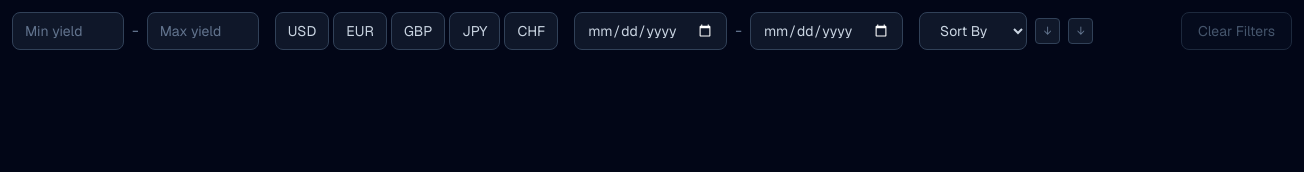
Scenario: InvoiceFilters validation › Filter controls accessibility › clears error when value is corrected
The image size is (1304, 172).
Type "-5" into the number field named "minimum yield". click: point(68, 31)
box: [12, 12, 124, 50]
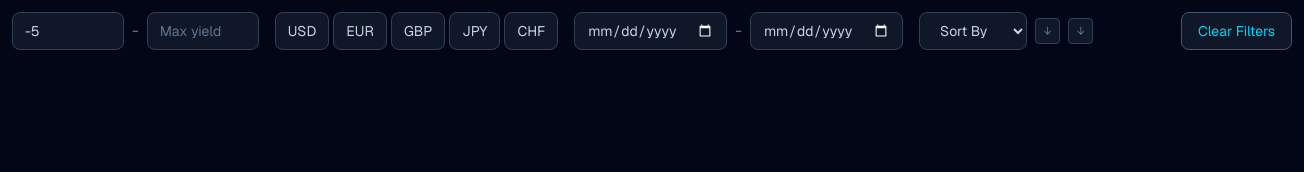
Leave the number field named "minimum yield", box [12, 12, 124, 50]
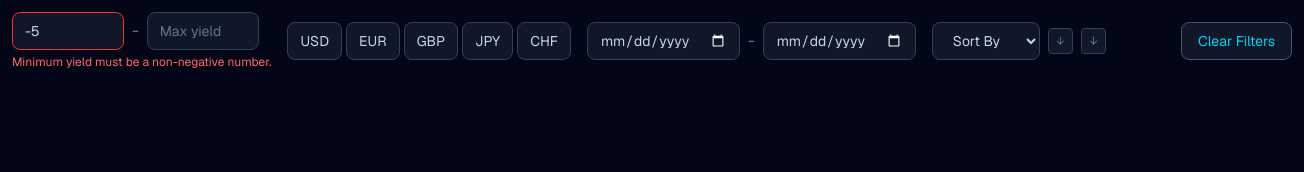
Expected: the message "Minimum yield must be a non-negative number." is shown, [12, 54, 272, 70]
Replace the text in the number field named "minimum yield" with "5". click: point(68, 31)
box: [12, 12, 124, 50]
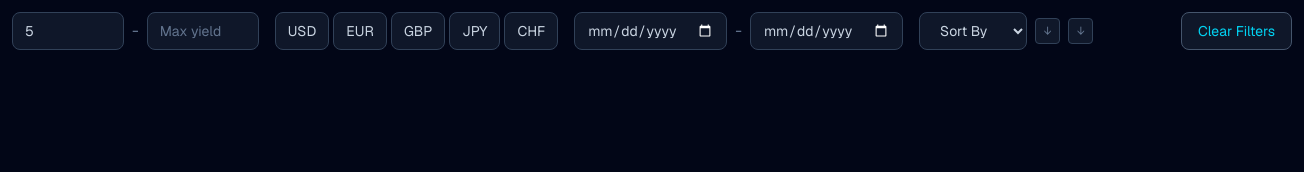
Expected: the message "Minimum yield must be a non-negative number." is gone
